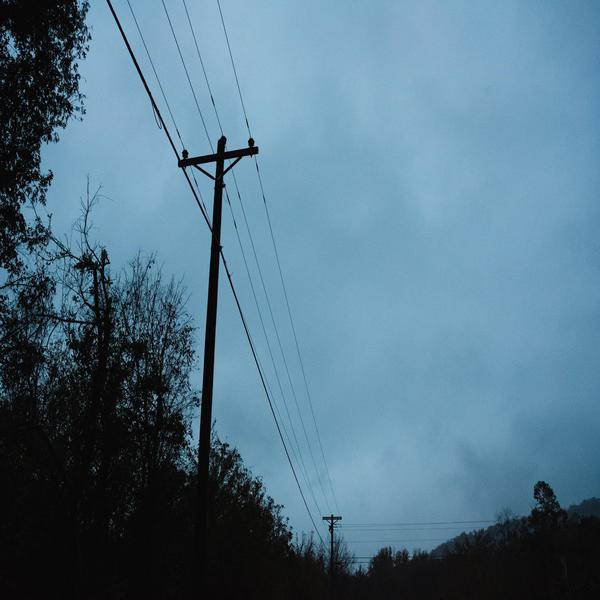utility_pole: (172, 127, 266, 234), (320, 509, 345, 538)
